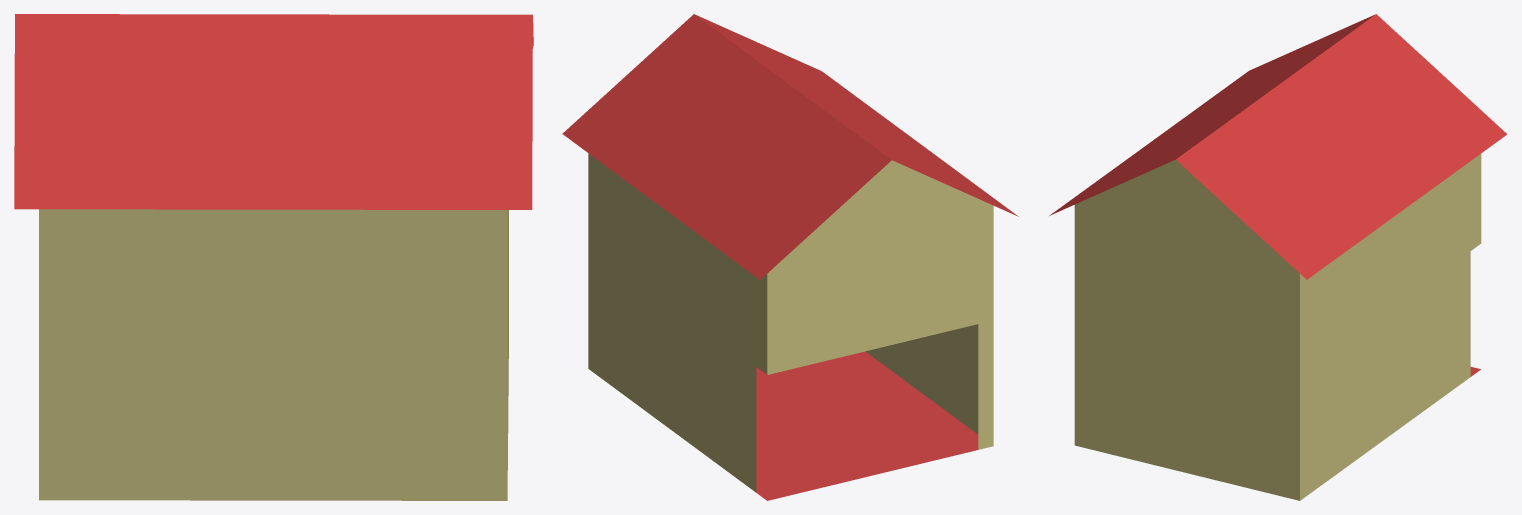
3 renders of one model, left to right at view 1: azimuth 30°, elevation 25°; view 2: azimuth 150°, elevation 25°; view 3: azimuth 270°, elevation 25°, orthographic. The views are drawn at different scales.
Parts seen in each view (by area): view 1: group_5, group_3, group_4; view 2: group_5, group_3, group_6, group_4; view 3: group_5, group_3, group_4.
Boxes of the visible parts, left/top/right/bottom form: group_5: left=39, top=209, right=508, bottom=500; group_3: left=14, top=14, right=532, bottom=209; group_4: left=14, top=14, right=533, bottom=209; group_5: left=588, top=153, right=993, bottom=492; group_3: left=562, top=14, right=1013, bottom=279; group_6: left=756, top=351, right=978, bottom=500; group_4: left=695, top=14, right=1018, bottom=216; group_5: left=1074, top=154, right=1481, bottom=500; group_3: left=1049, top=14, right=1507, bottom=279; group_4: left=1124, top=14, right=1424, bottom=206.
Size of the model in its own units: 25.96 by 24.07 by 18.52.
